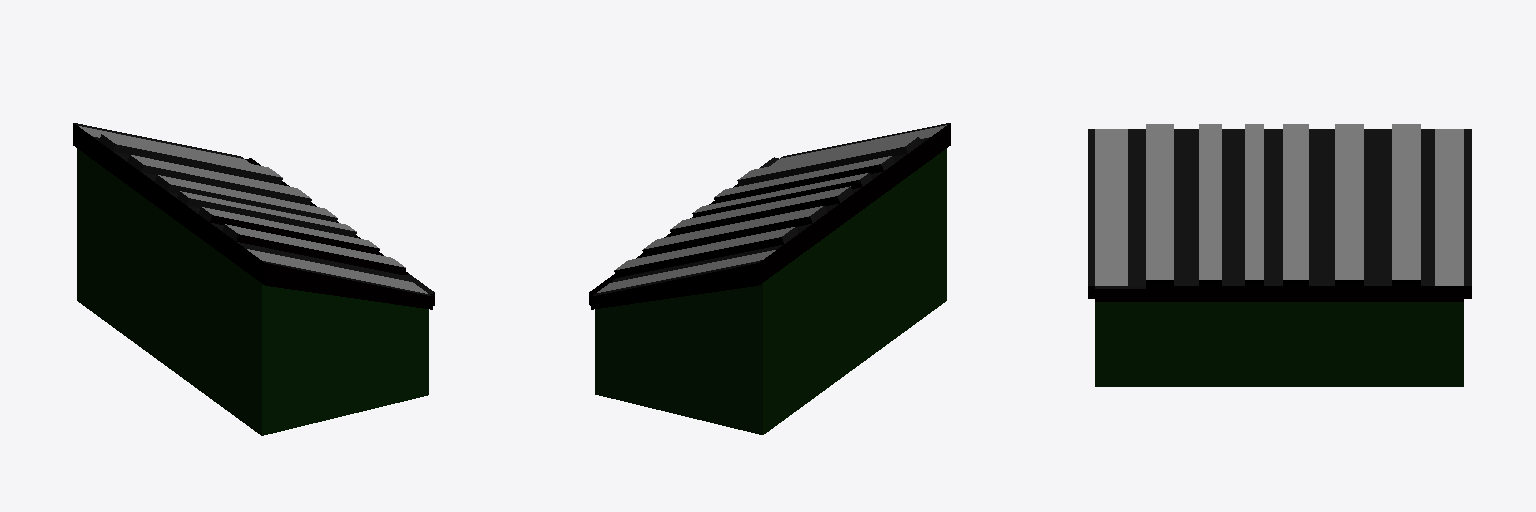
The model's file is contenedor_de_basura.obj.
3 renders of one model, left to right at view 1: azimuth 30°, elevation 25°; view 2: azimuth 150°, elevation 25°; view 3: azimuth 270°, elevation 25°, orthographic.
Visible parts, largest first — view 1: pCube1; view 2: pCube1; view 3: pCube1.
Part boxes in pixels (left/top/right/bottom): pCube1: left=73, top=123, right=434, bottom=435; pCube1: left=589, top=123, right=950, bottom=434; pCube1: left=1088, top=124, right=1471, bottom=386.
Size of the model in its own units: 4.42 by 4.43 by 8.45.